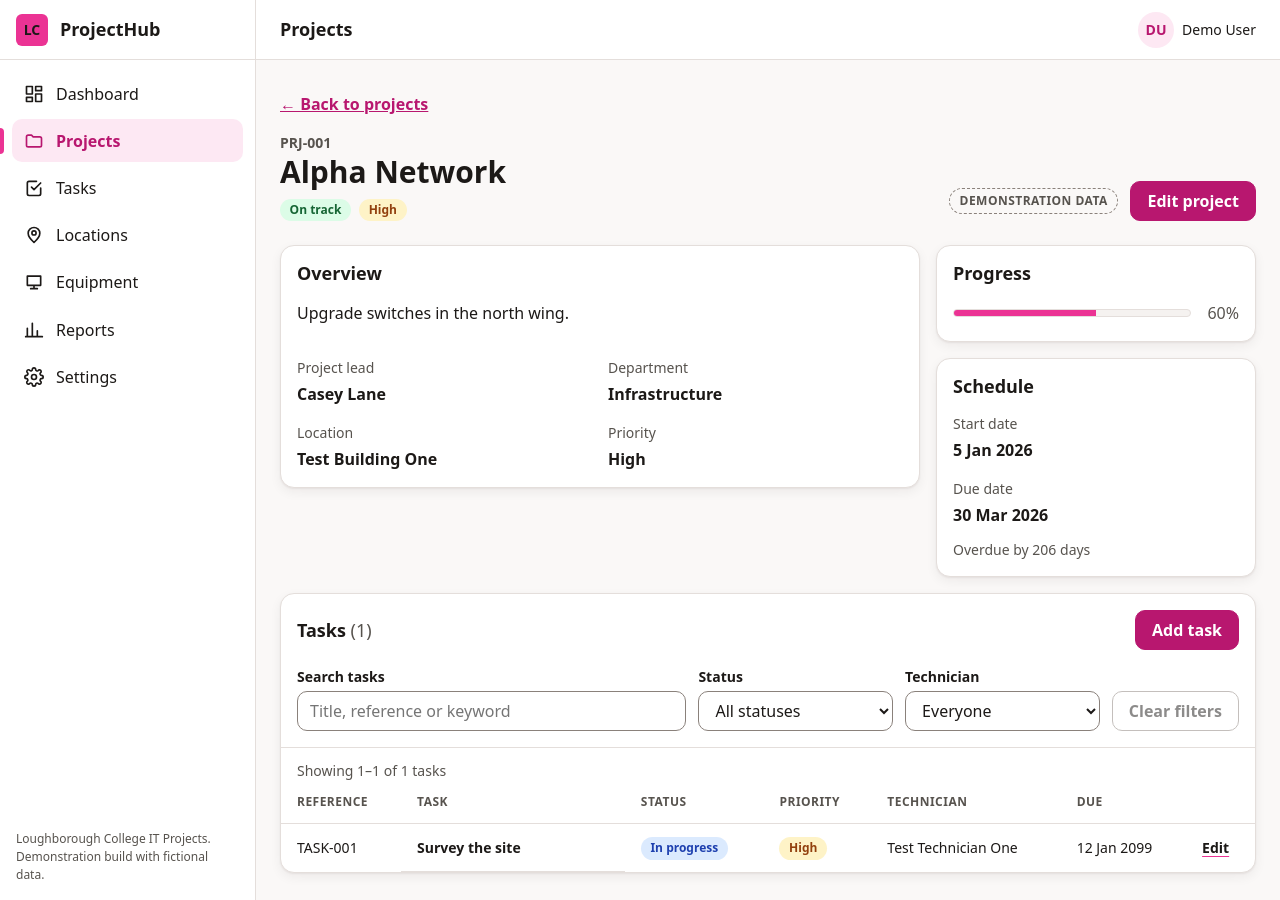
Scenario: tasks on the project page › opens the edit form from a task row
Click the link named "Edit task TASK-001: Survey the site": x=1216, y=848 left=1202, top=838, right=1229, bottom=858
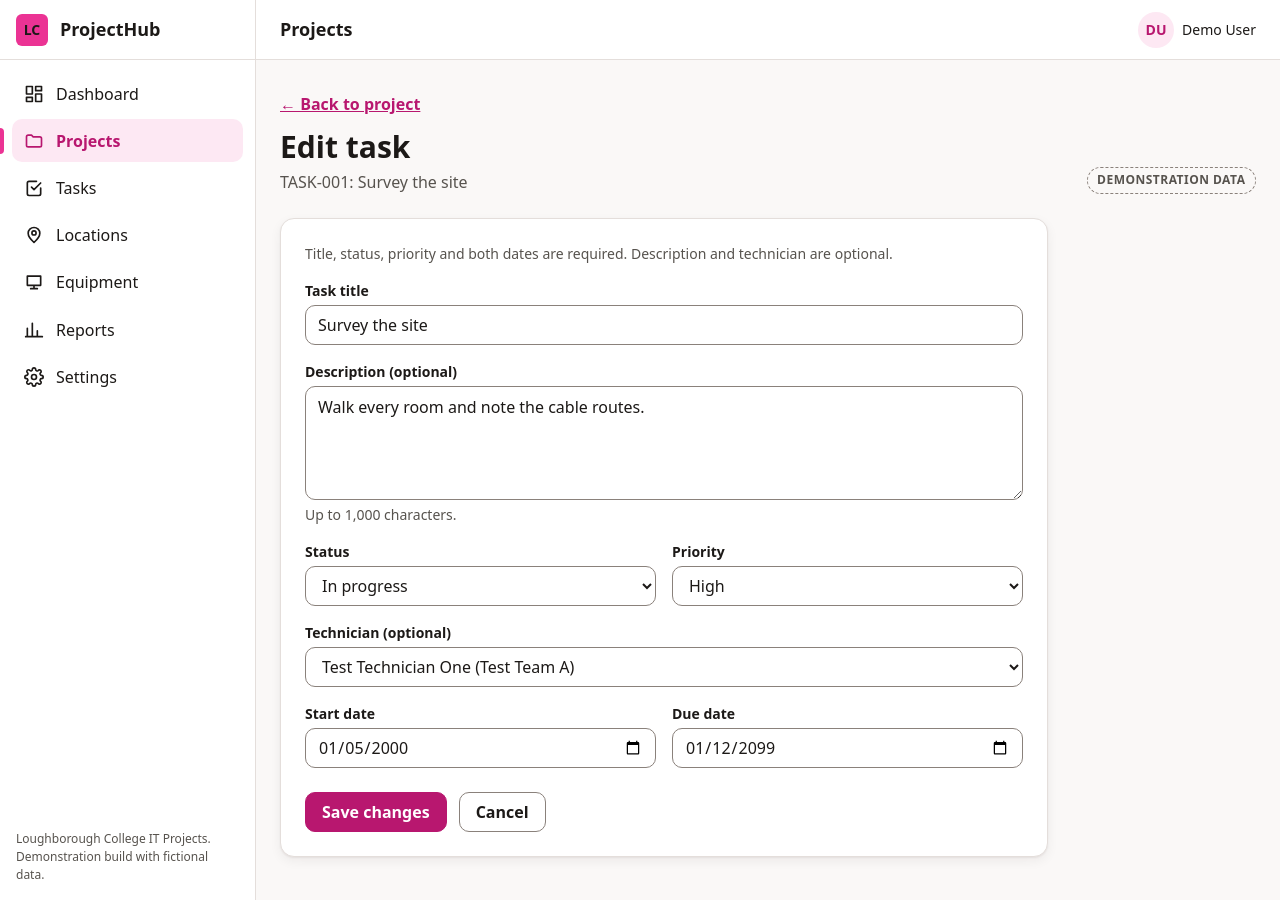
Now the heading "Edit task" is shown, box left=280, top=126, right=410, bottom=167
